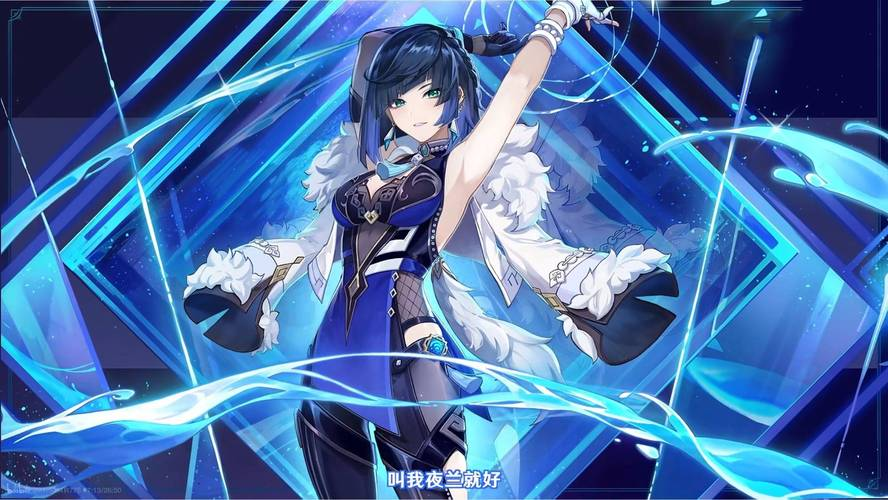夜兰: (291, 2, 619, 496)
